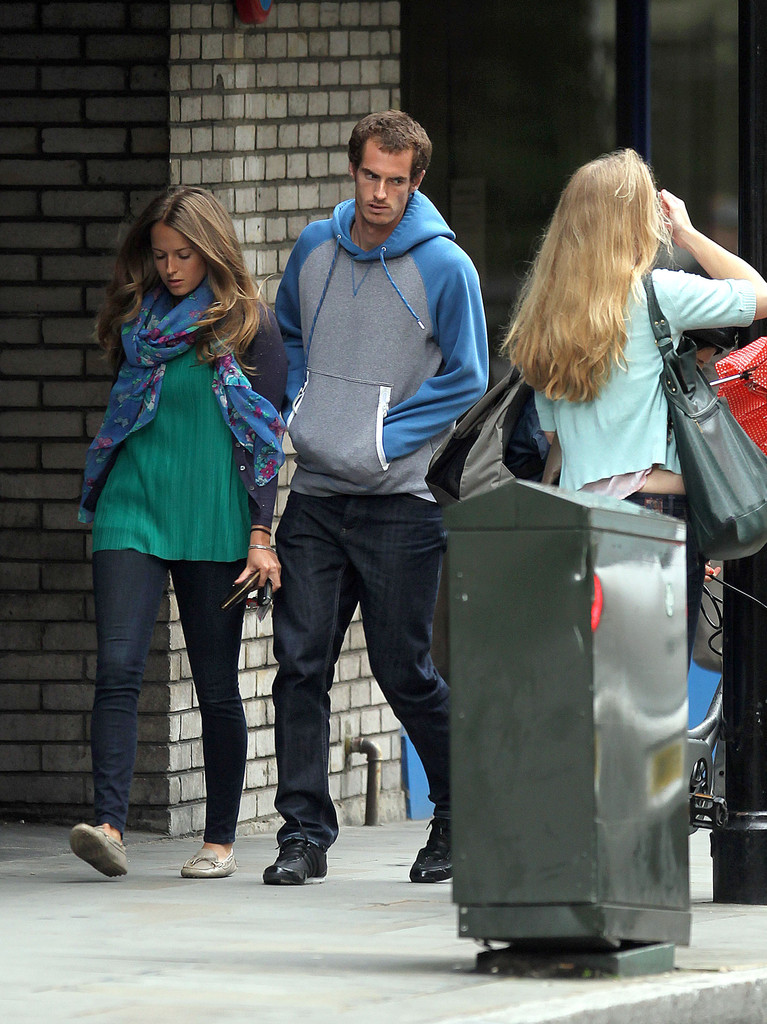Person: (71, 185, 280, 875), (505, 143, 767, 495), (275, 108, 487, 505)
